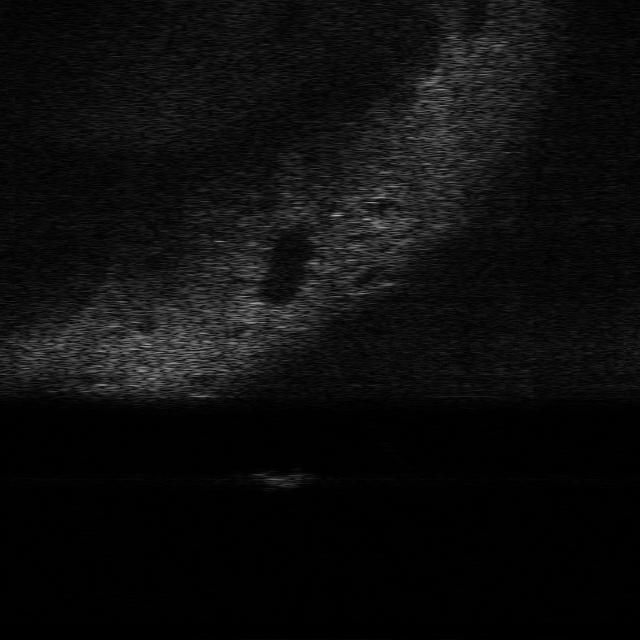cube: (251, 470, 315, 489)
